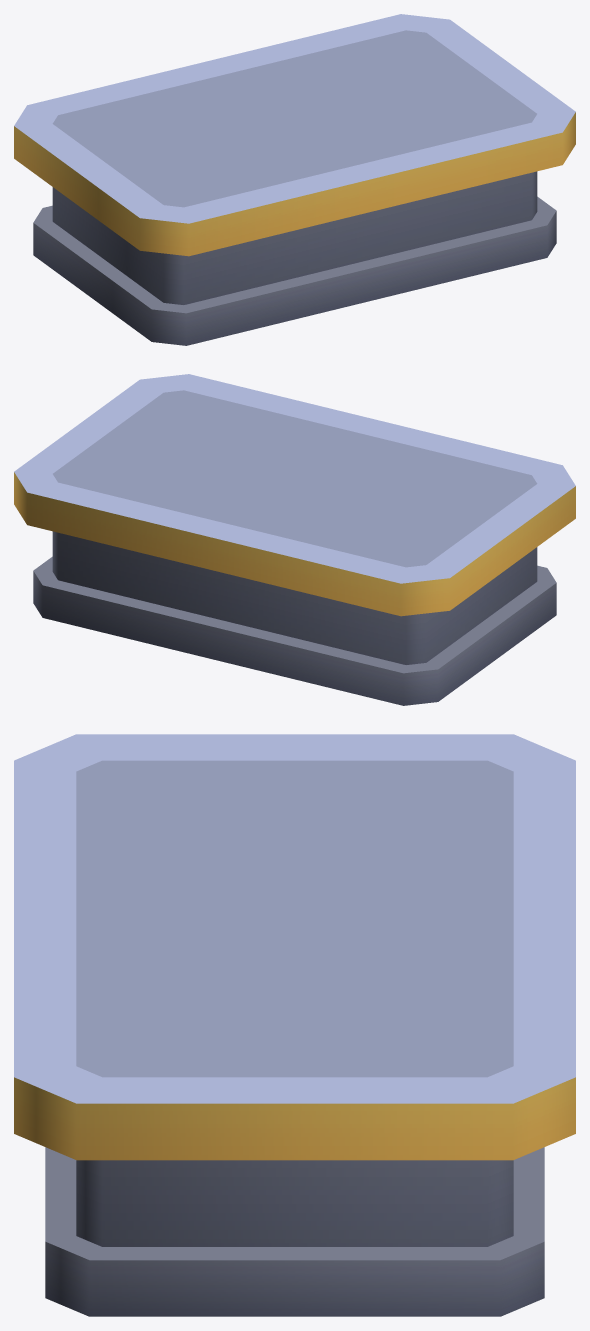
File: station-table.glb
The picture shows the model from 3 angles, top to bottom: view 1: azimuth 30°, elevation 25°; view 2: azimuth 150°, elevation 25°; view 3: azimuth 270°, elevation 25°; orthographic projection. The views are drawn at different scales.
Visible parts, largest first — view 1: table-large; view 2: table-large; view 3: table-large.
Part boxes in pixels (<box>): table-large: <box>14,14,575,345</box>; table-large: <box>14,374,575,705</box>; table-large: <box>14,734,575,1316</box>.
Size of the model in its own units: 1.4 by 0.4 by 0.9001.
Materials: 1 (1 with a texture image).
